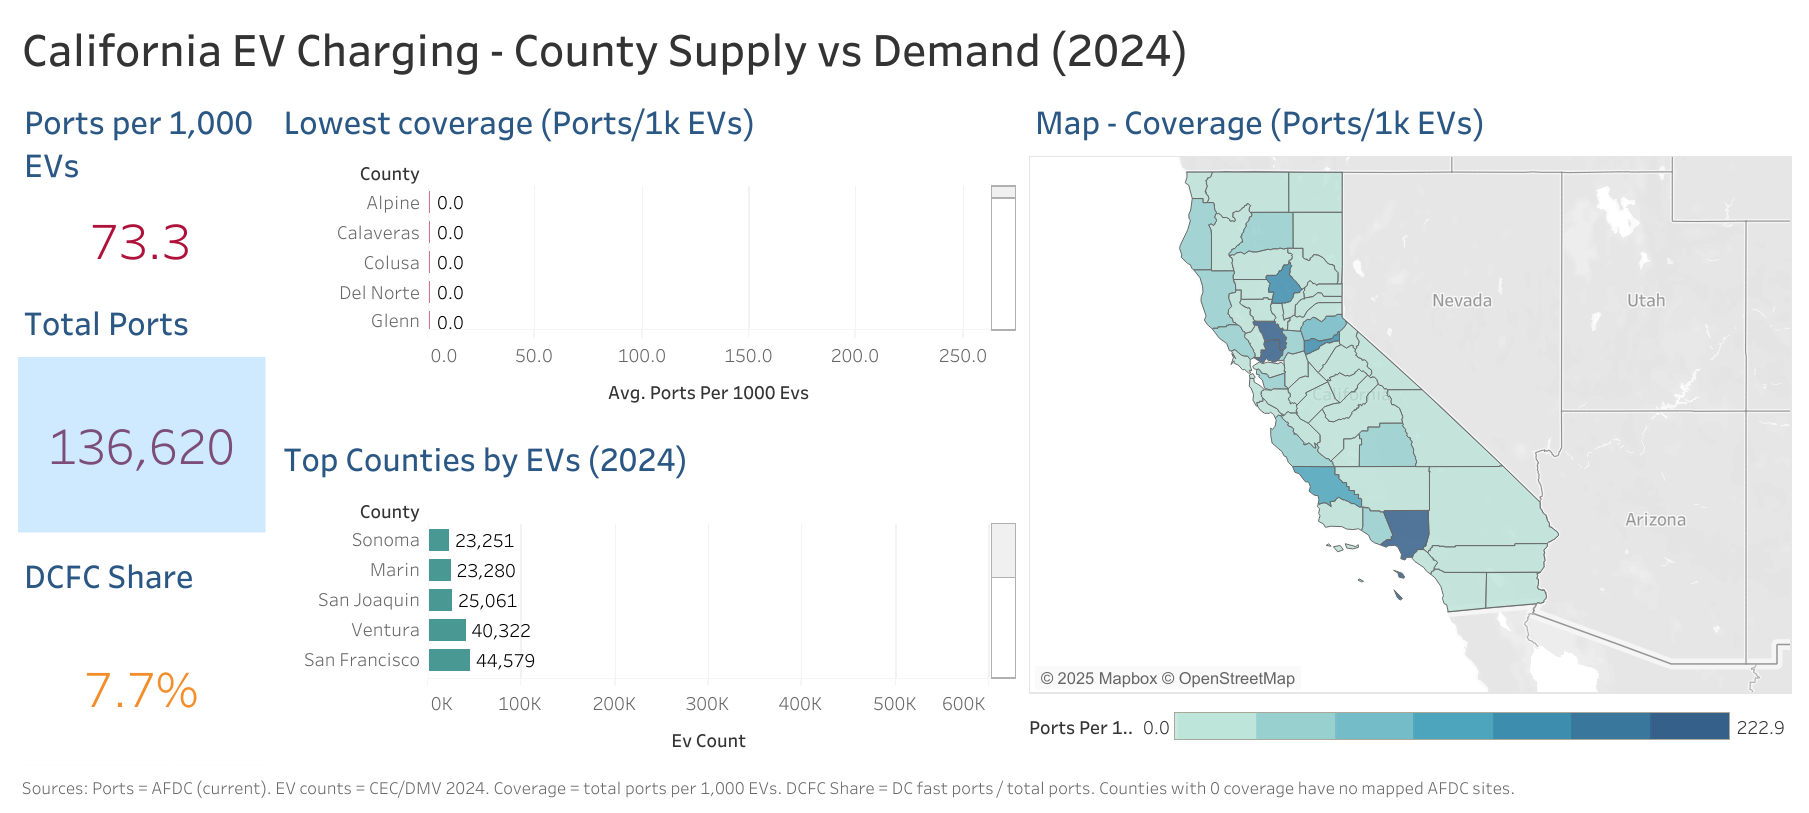

This screenshot's page, from the dashboard's own definition file:
{"tool":"tableau","page":{"name":"County - Supply vs Demand","canvas":[1000,1000],"units":"permille","ordinal":1},"visuals":[{"type":"title","box":[7.6,15.4,984.7,92.7]},{"type":"worksheet","title":"KPI - Ports/1k EVs (State)","mark":"Automatic","box":[7.6,108.1,143,245.7]},{"type":"worksheet","title":"Bottom - Ports/1k EVs","mark":"Automatic","rows":["county"],"cols":["ports_per_1000_evs"],"box":[150.6,108.1,414.5,411.1]},{"type":"worksheet","title":"Map - Coverage (ports/1k EVs)","mark":"Multipolygon","box":[565.1,108.1,427.3,751.7]},{"type":"worksheet","title":"KPI - Total Ports (County)","mark":"Automatic","box":[7.6,353.8,143,309.4]},{"type":"worksheet","title":"Top - EV Count","mark":"Automatic","rows":["county"],"cols":["ev_count"],"box":[150.6,519.1,414.5,424.9]},{"type":"worksheet","title":"KPI - DCFC Share (County)","mark":"Automatic","box":[7.6,663.2,143,280.8]},{"type":"legend","title":"Map - Coverage (ports/1k EVs)","param":"[federated.0i0ftxa1gior6d16kr3nw0uedlx6].[sum:ports_per_1000_evs:qk]","box":[565.1,859.8,427.3,84.2]},{"type":"text","box":[7.6,944,984.7,40.6]}]}

Visuals, with their boxes on the dashboard's canvas, which has no fixed pixel size, in thousandths of its width and height (x1, y1, x2, y2). These are canvas units, not pixel positions in the 1809x813 screenshot, which may show the page scaled, cropped or inside an application window:
title: left=8, top=15, right=992, bottom=108
"KPI - Ports/1k EVs (State)" worksheet: left=8, top=108, right=151, bottom=354
"Bottom - Ports/1k EVs" worksheet: left=151, top=108, right=565, bottom=519
"Map - Coverage (ports/1k EVs)" worksheet (Multipolygon marks): left=565, top=108, right=992, bottom=860
"KPI - Total Ports (County)" worksheet: left=8, top=354, right=151, bottom=663
"Top - EV Count" worksheet: left=151, top=519, right=565, bottom=944
"KPI - DCFC Share (County)" worksheet: left=8, top=663, right=151, bottom=944
"Map - Coverage (ports/1k EVs)" legend: left=565, top=860, right=992, bottom=944
text: left=8, top=944, right=992, bottom=985
